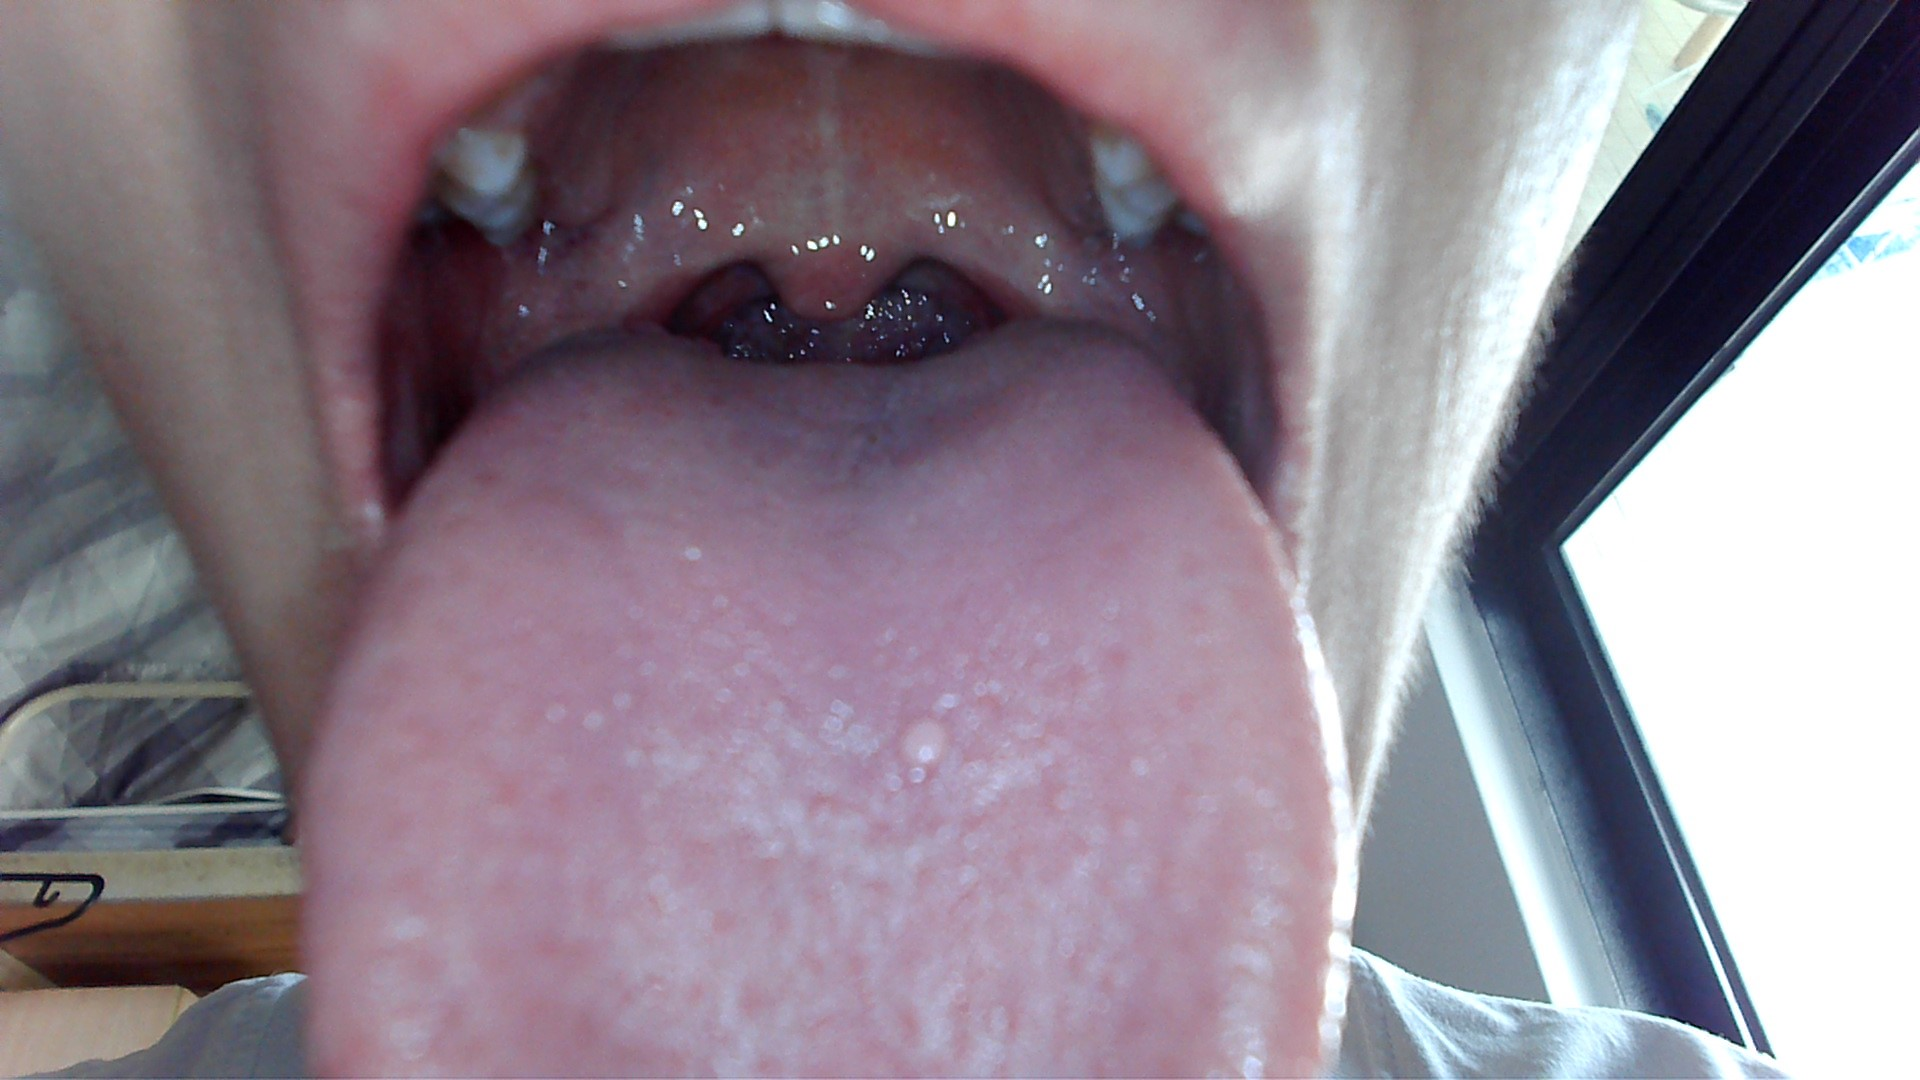throat: (603, 204, 754, 328), (918, 220, 1050, 324)
